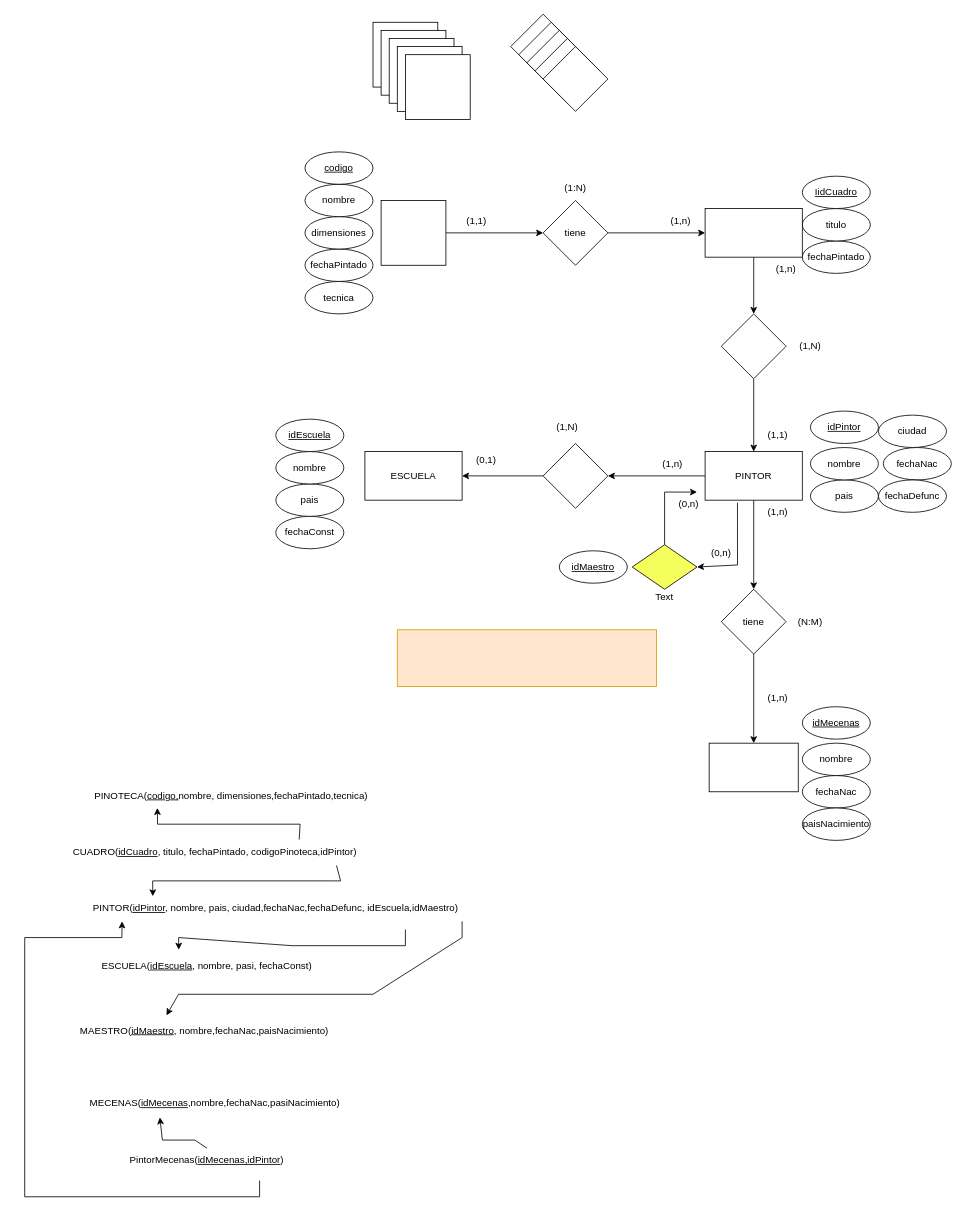
The diagram is 966 pixels wide and 1217 high, and some of its shapes have lost their labels. The shapes that lost their labels are listed below. From the top down, each one's box as (x1, y1, x2, y2) in pixels, then its label:
(380, 200, 446, 265): PINOTECA
(704, 208, 802, 257): CUADRO
(720, 313, 786, 379): pintado
(542, 443, 608, 508): pertenecer
(631, 544, 697, 589): es maestro
(396, 629, 657, 686): me falta hacer la relacion reflexiva en el modelo relacional.
(708, 742, 798, 792): MECENAS
